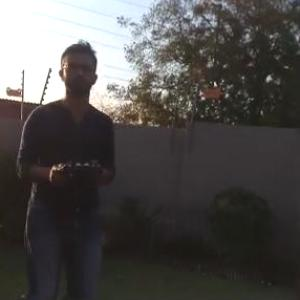follow: (12, 32, 120, 299)
